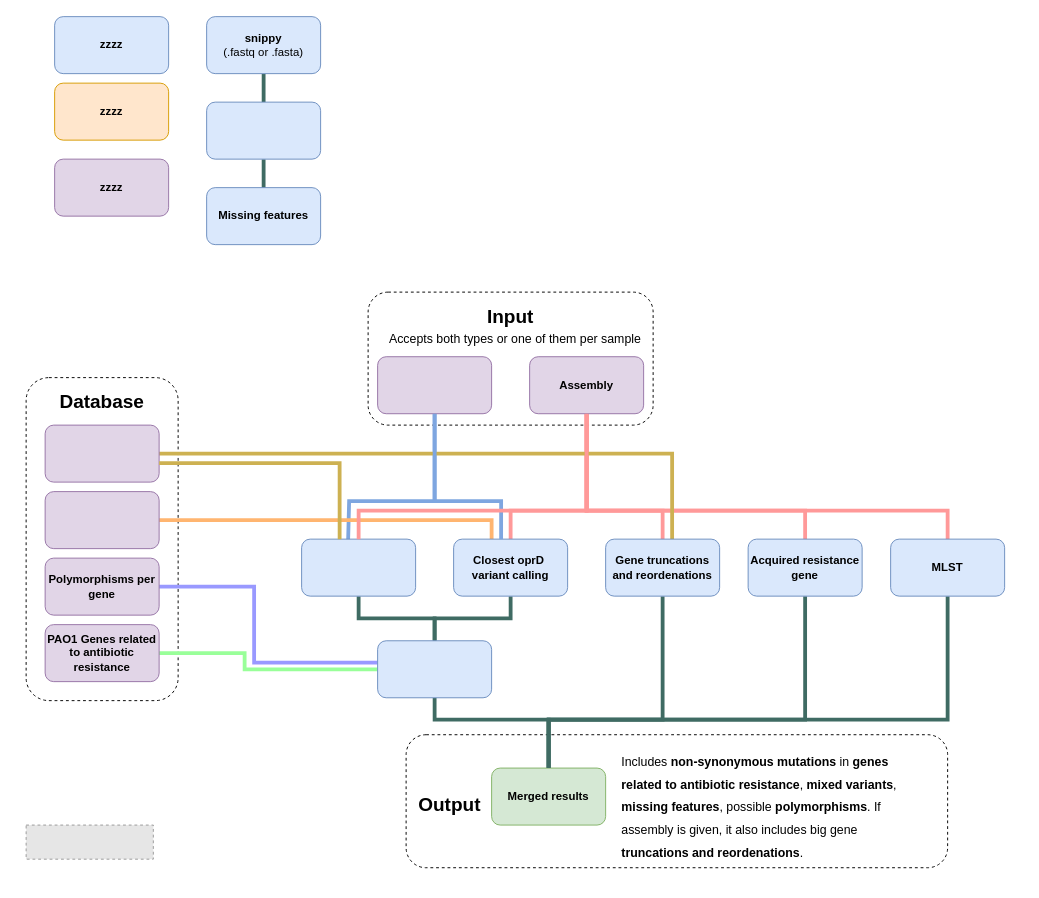
Image size: 1039x898. Some labels were removed from this diagram. Grey dashed boxes stand in for pictures. Here are the shapes that lost their labels. From the top down, the box of each, then its label:
(206, 101, 321, 159): Mixed variants
(377, 356, 492, 414): Paired-end or single-end reads
(44, 424, 159, 482): PAO1 Genome
(44, 491, 159, 549): oprD distant variants
(301, 538, 416, 596): PAO1 Variant calling
(377, 640, 492, 698): Filter variants
